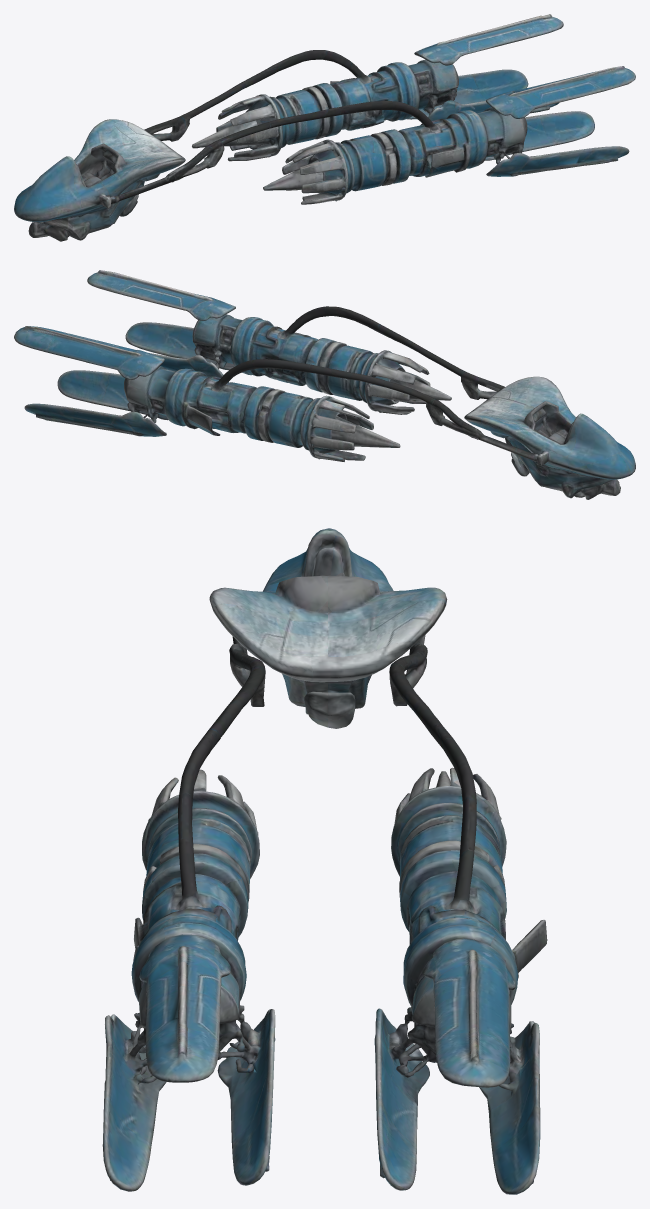
The model's file is pod-azur.glb.
3 views of the same model, one above another, from view 1: azimuth 30°, elevation 25°; view 2: azimuth 150°, elevation 25°; view 3: azimuth 270°, elevation 25° (orthographic). The views are drawn at different scales.
Parts seen in each view (by area): view 1: mesh_node; view 2: mesh_node; view 3: mesh_node.
Part boxes in pixels (<box>): mesh_node: <box>14,14,635,241</box>; mesh_node: <box>14,270,635,499</box>; mesh_node: <box>102,528,547,1194</box>.
Bounding box in the file's own units: 0.3496 × 0.06 × 0.1159.
1 material, 1 textured.
